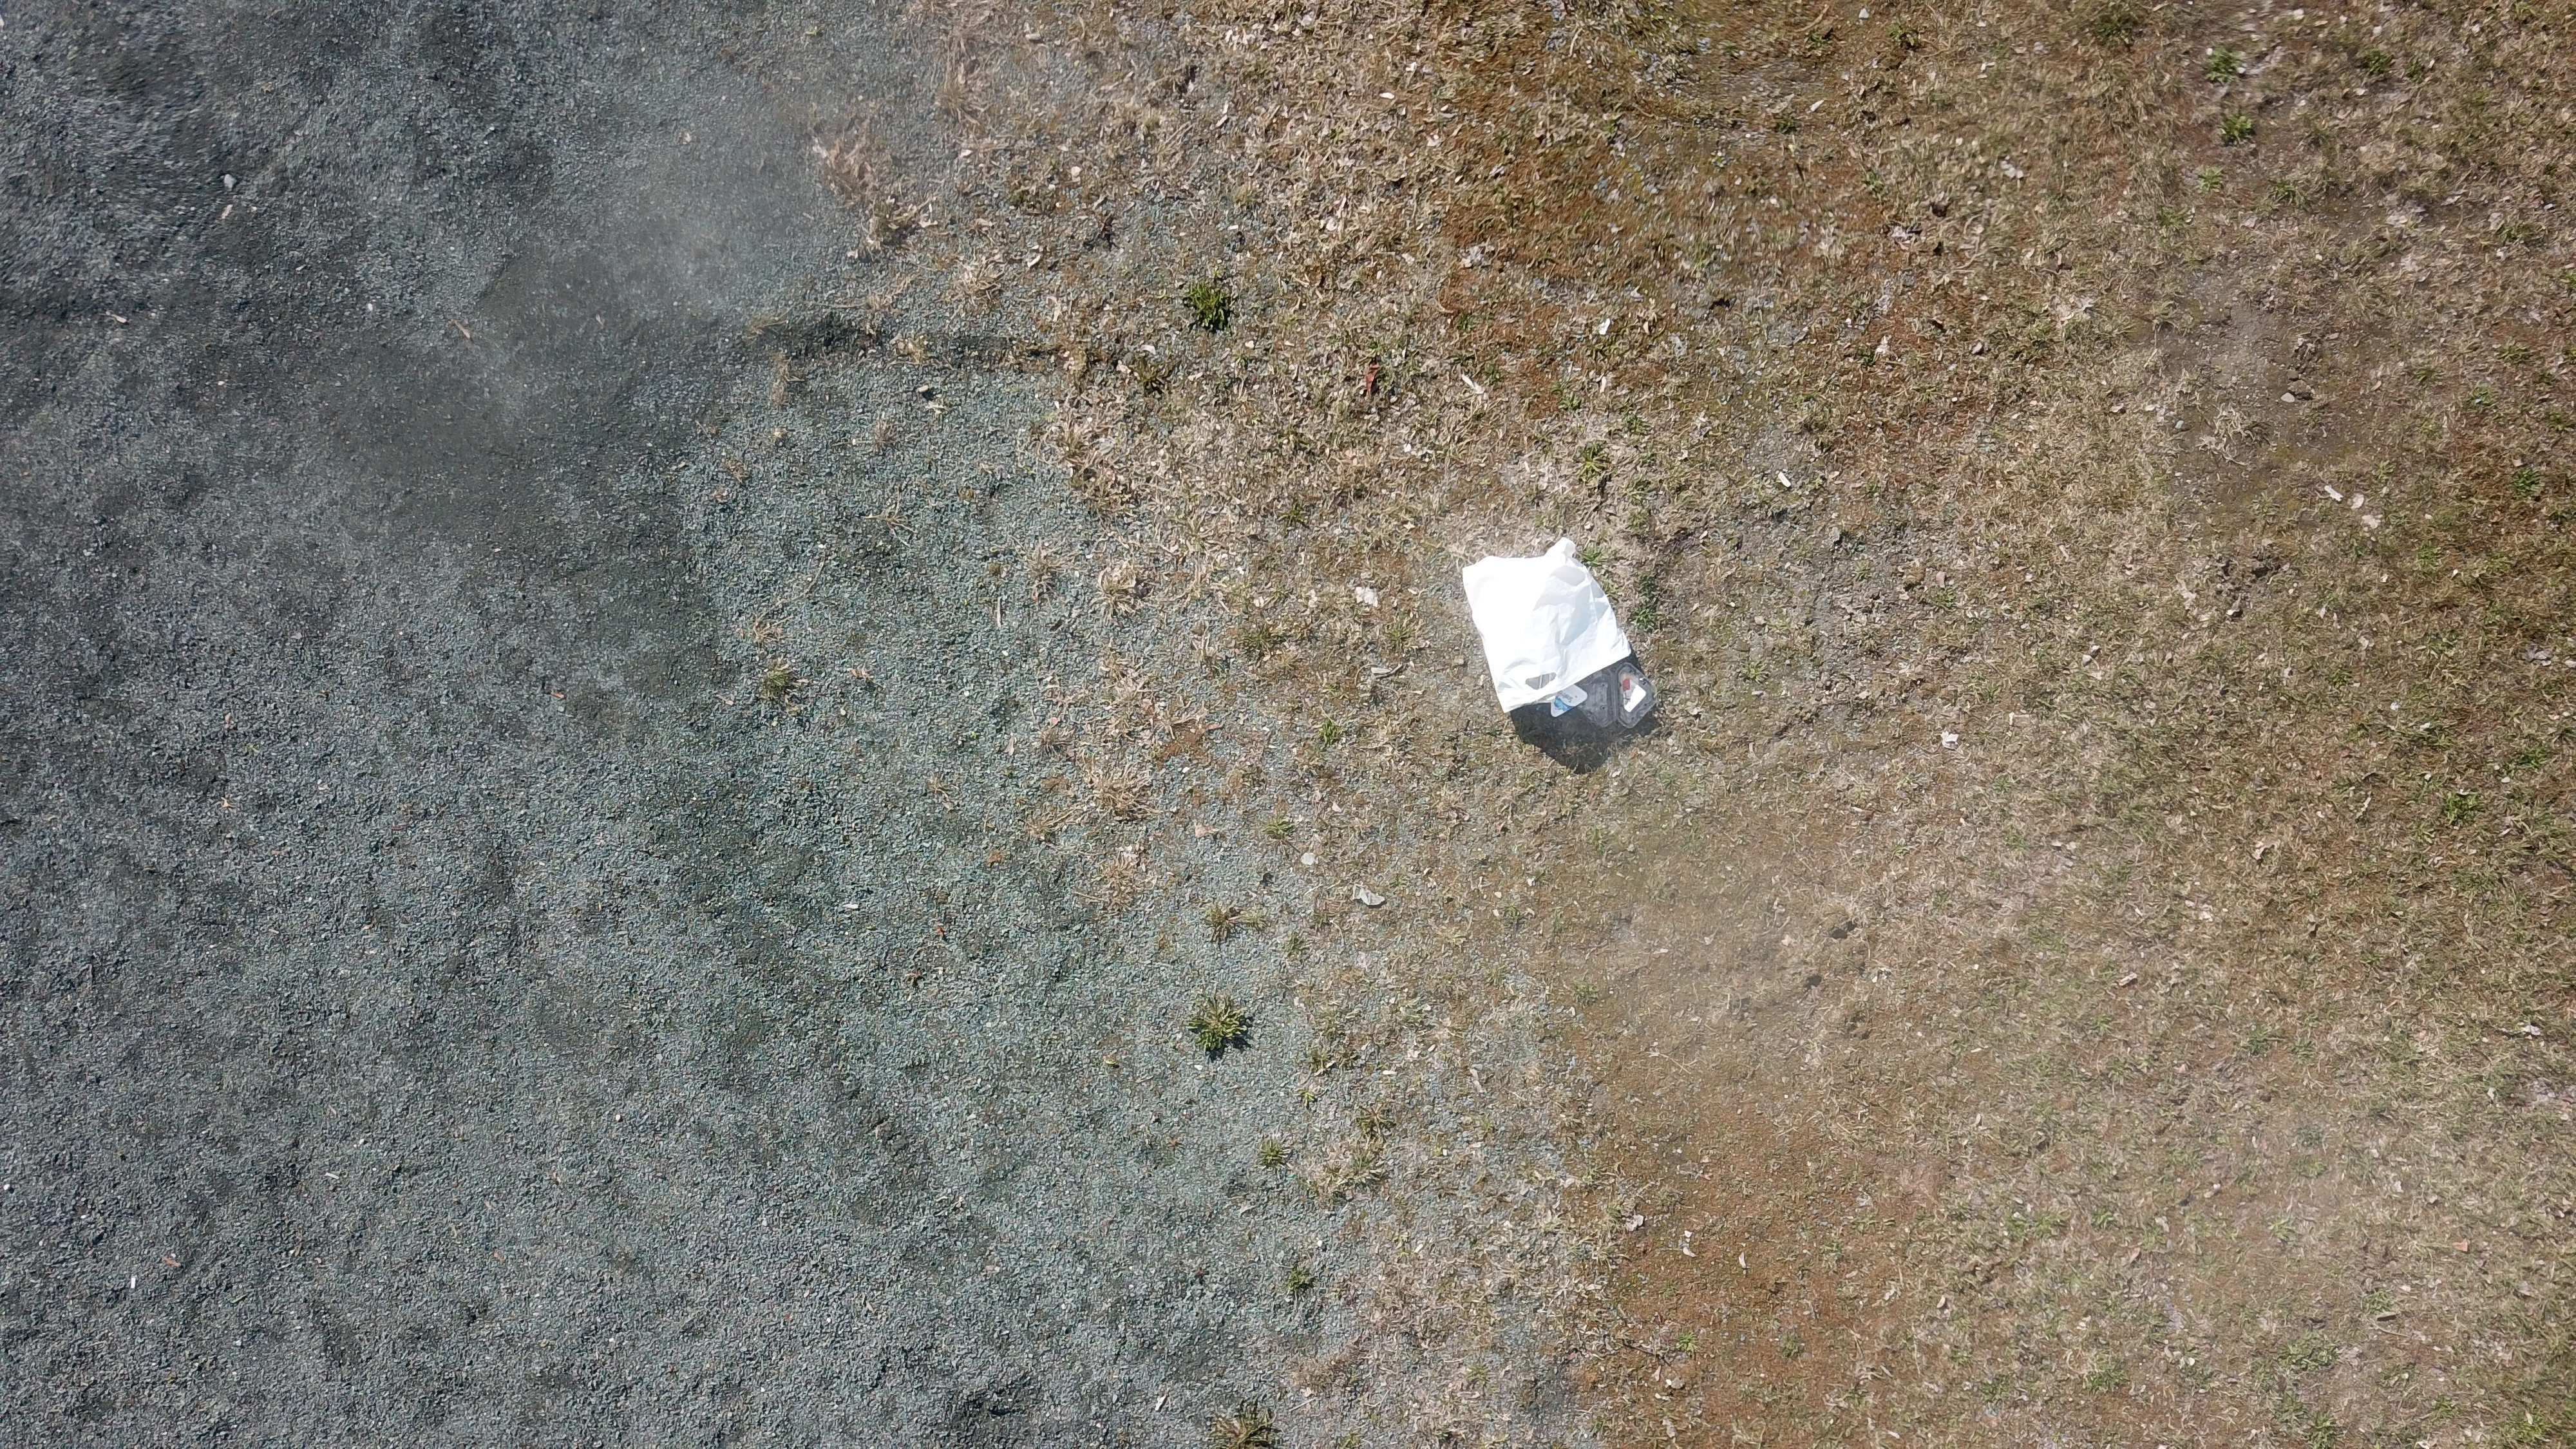Plastic: (1461, 538, 1631, 713), (1578, 665, 1658, 727), (1548, 683, 1589, 715)
